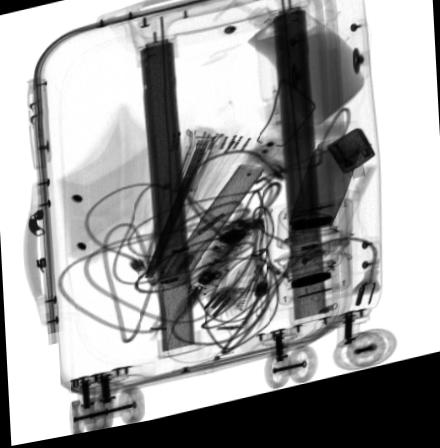Lighter: (325, 142, 375, 188)
